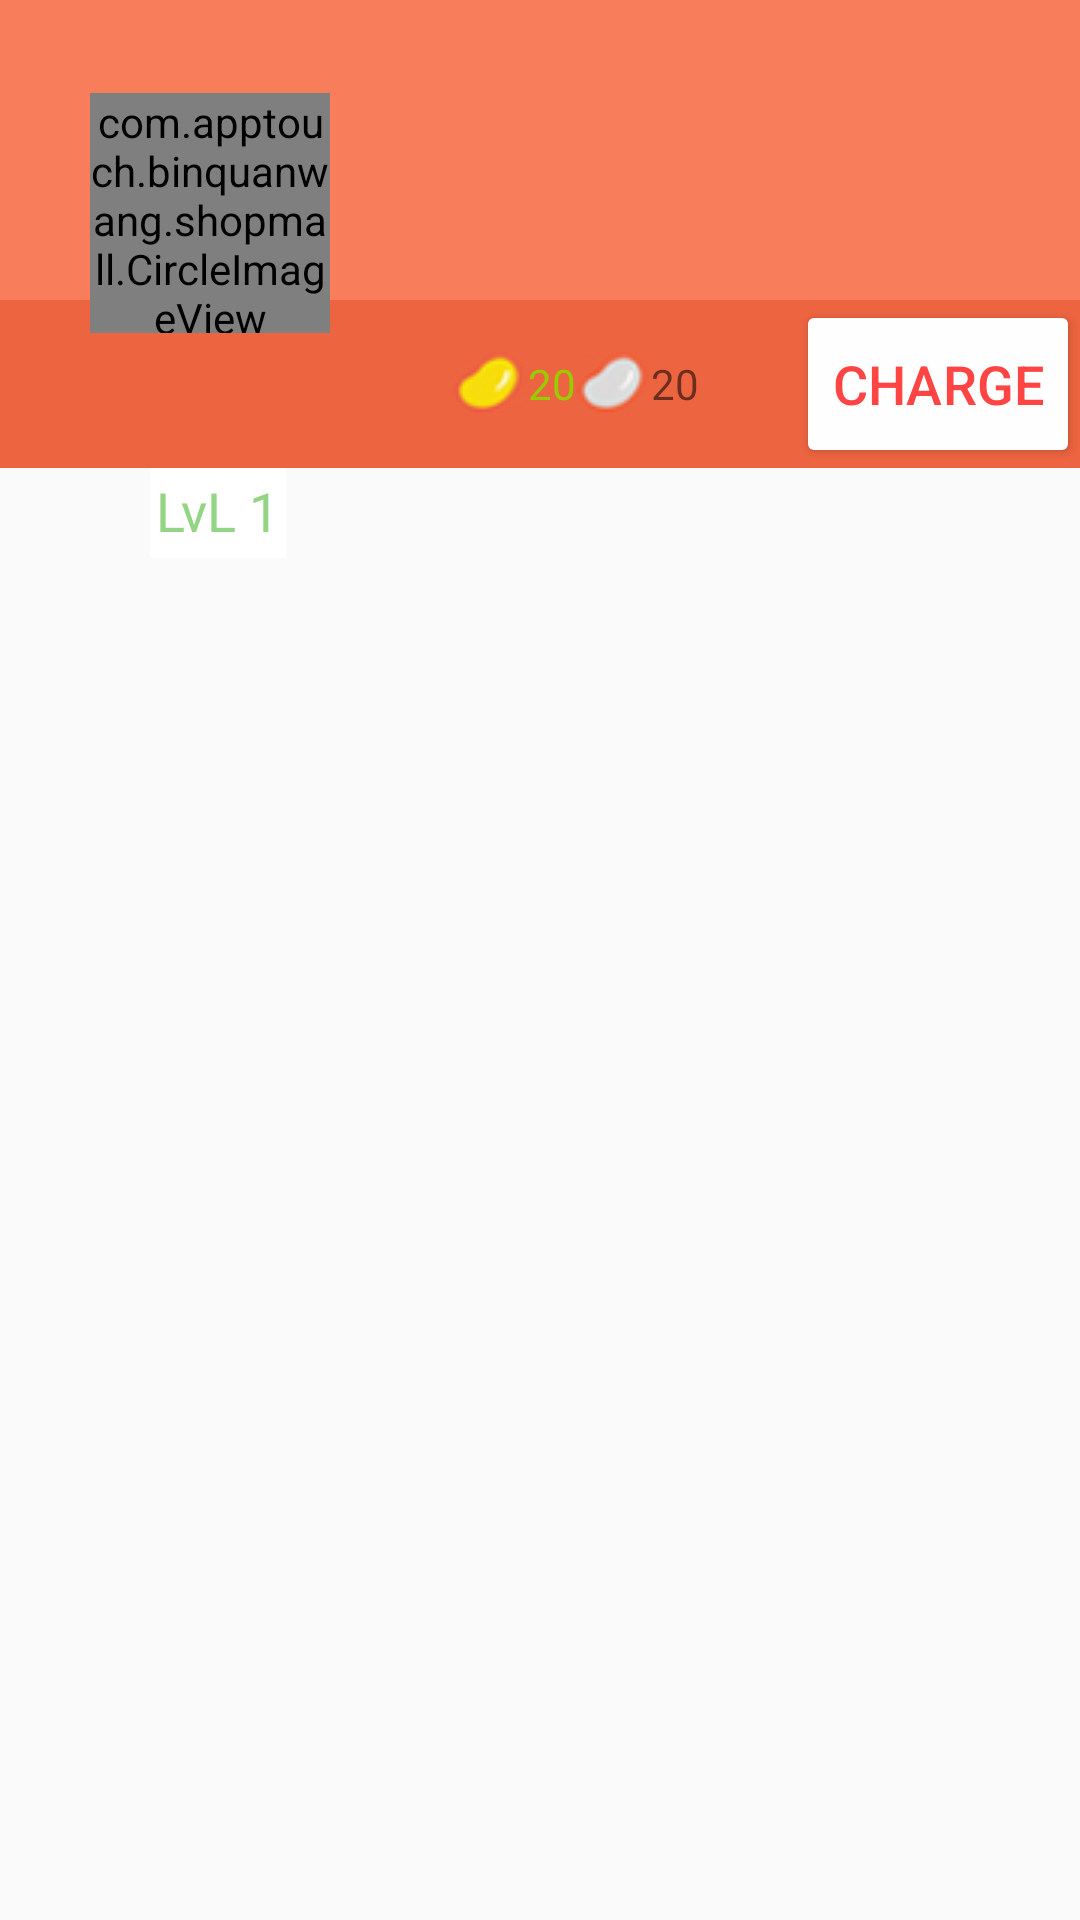

Where icons sit on this 1080x1920 app screen, as (x1, y1, x2, y2):
me goldbean: (458, 357, 519, 409)
me silverbean: (582, 357, 643, 409)
